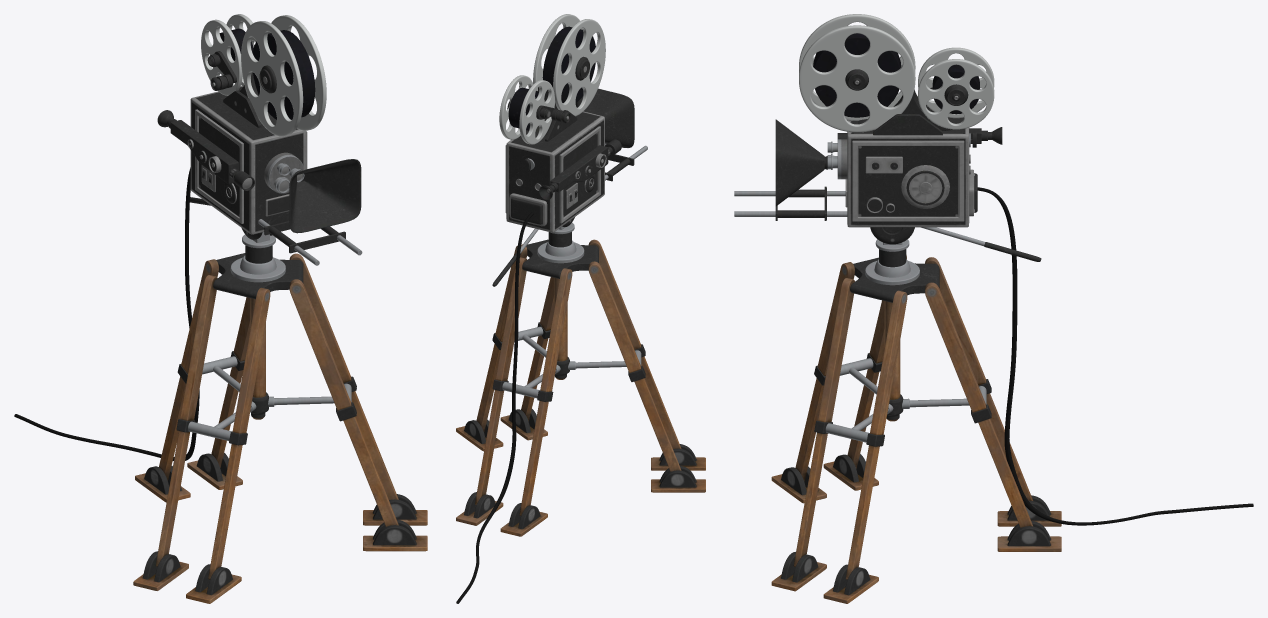
File: camera.glb
3 views of the same model, side by side, from view 1: azimuth 30°, elevation 25°; view 2: azimuth 150°, elevation 25°; view 3: azimuth 270°, elevation 25° (orthographic). The views are drawn at different scales.
Parts seen in each view (by area): view 1: pCylinder14_BlenderMat_0; view 2: pCylinder14_BlenderMat_0; view 3: pCylinder14_BlenderMat_0.
Boxes of the visible parts, left/top/right/bottom form: pCylinder14_BlenderMat_0: left=14, top=14, right=427, bottom=603; pCylinder14_BlenderMat_0: left=456, top=14, right=705, bottom=603; pCylinder14_BlenderMat_0: left=734, top=14, right=1253, bottom=603.
Size of the model in its own units: 41.05 by 69.98 by 63.43.
1 material, 1 textured.
